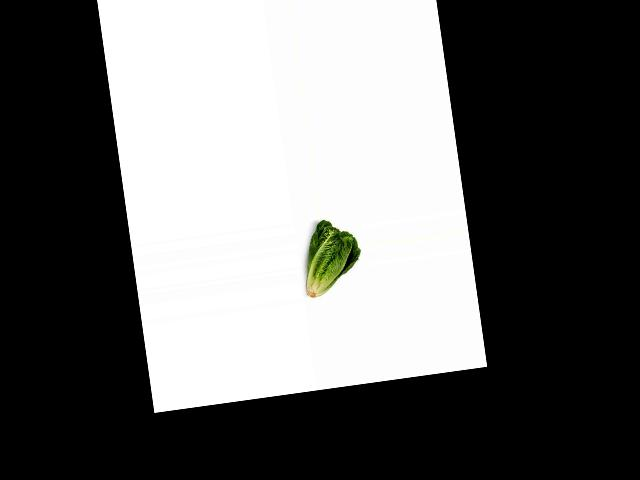lettuce: (295, 216, 365, 303)
